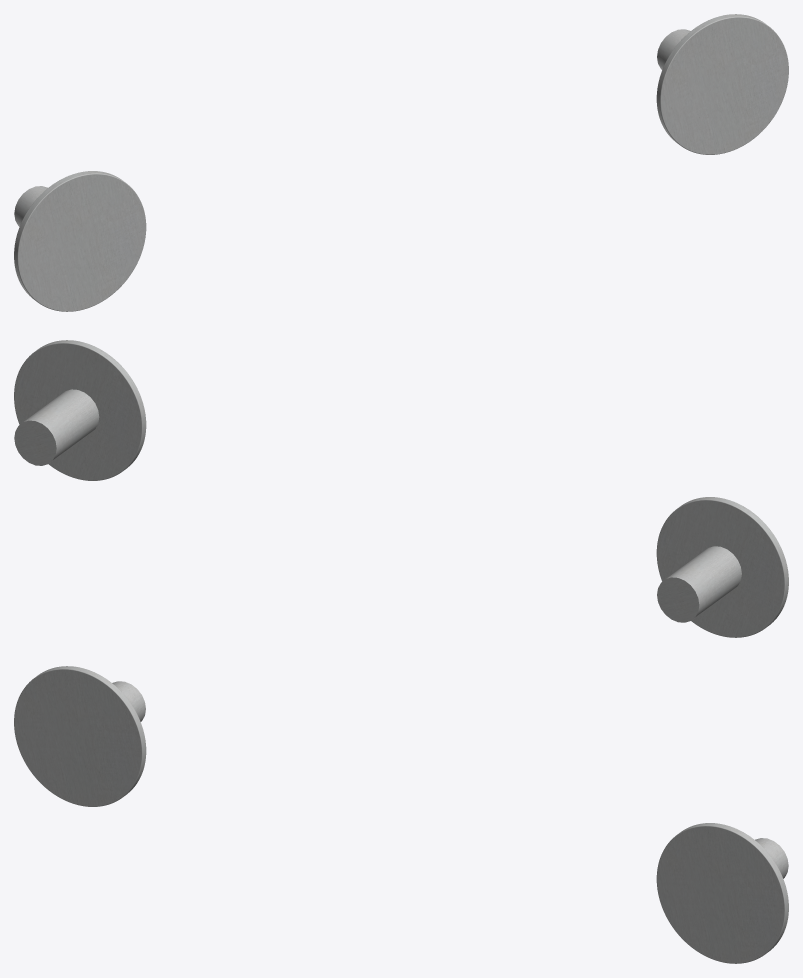
Rendered from Handle7_2.obj.
The picture shows the model from 3 angles, top to bottom: view 1: azimuth 30°, elevation 25°; view 2: azimuth 150°, elevation 25°; view 3: azimuth 330°, elevation 25°; orthographic projection.
Parts seen in each view (by area): view 1: pCube3_Mesh.036; view 2: pCube3_Mesh.036; view 3: pCube3_Mesh.036.
Boxes of the visible parts, bbox=[...] form: pCube3_Mesh.036: bbox=[14, 14, 788, 311]; pCube3_Mesh.036: bbox=[14, 340, 788, 637]; pCube3_Mesh.036: bbox=[14, 666, 788, 963].
Size of the model in its own units: 6.03 by 1.01 by 0.6324.
1 material, 1 textured.
